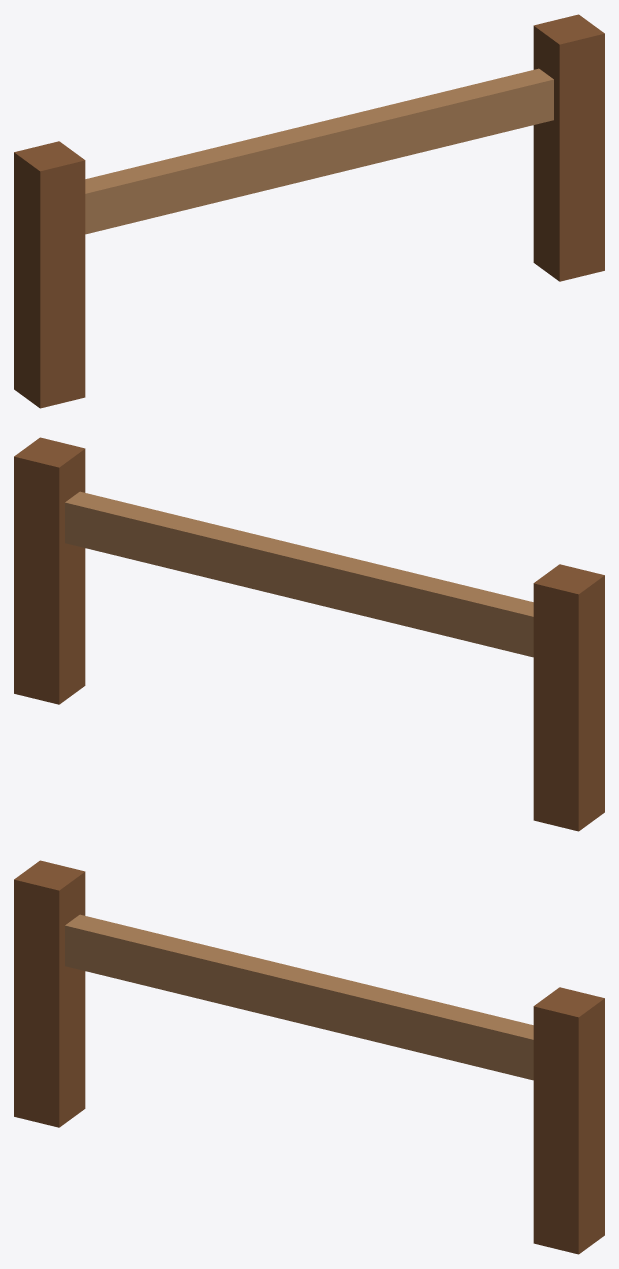
The model's file is fence.fbx.
3 views of the same model, one above another, from view 1: azimuth 30°, elevation 25°; view 2: azimuth 150°, elevation 25°; view 3: azimuth 330°, elevation 25° (orthographic).
Parts seen in each view (by area): view 1: fence; view 2: fence; view 3: fence.
Part boxes in pixels (x1,y1,x2,y2): fence: [14, 14, 604, 408]; fence: [14, 437, 604, 831]; fence: [14, 860, 604, 1254].
Size of the model in its own units: 0.1832 by 0.0735 by 0.0147.
